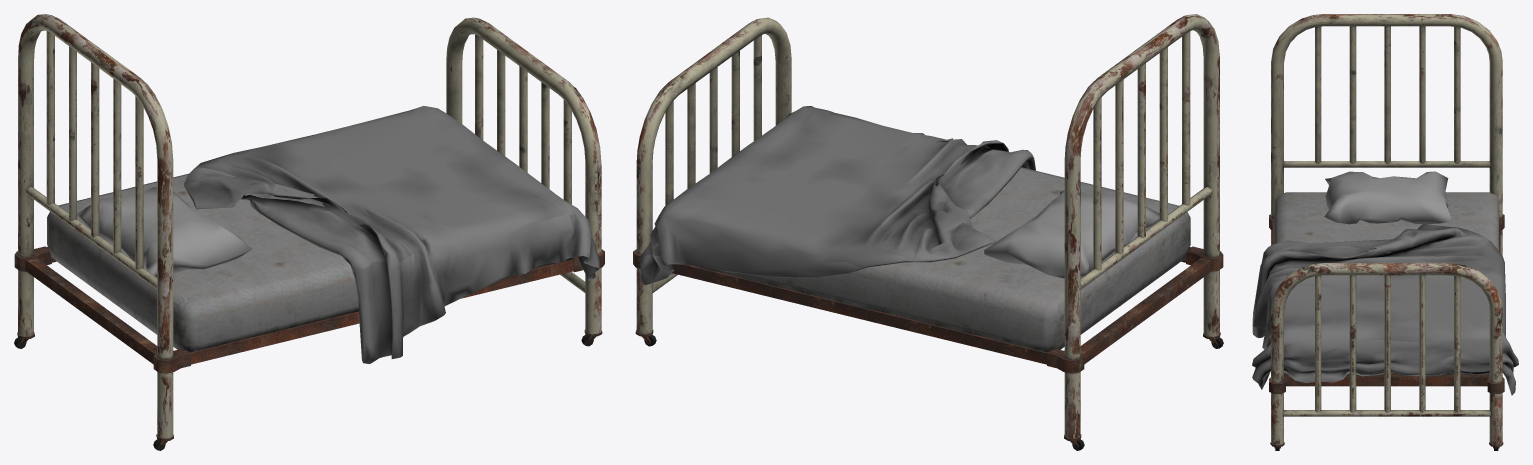
The model's file is lit_hopital.glb.
The picture shows the model from 3 angles, left to right: view 1: azimuth 30°, elevation 25°; view 2: azimuth 150°, elevation 25°; view 3: azimuth 270°, elevation 25°; orthographic projection. The views are drawn at different scales.
Parts seen in each view (by area): view 1: low_Pillow_1; view 2: low_Pillow_1; view 3: low_Pillow_1.
Part boxes in pixels (bbox=[...]): low_Pillow_1: bbox=[14, 14, 604, 450]; low_Pillow_1: bbox=[633, 14, 1223, 450]; low_Pillow_1: bbox=[1252, 14, 1518, 450].
Size of the model in its own units: 187 by 139 by 123.
3 materials, 2 textured.
